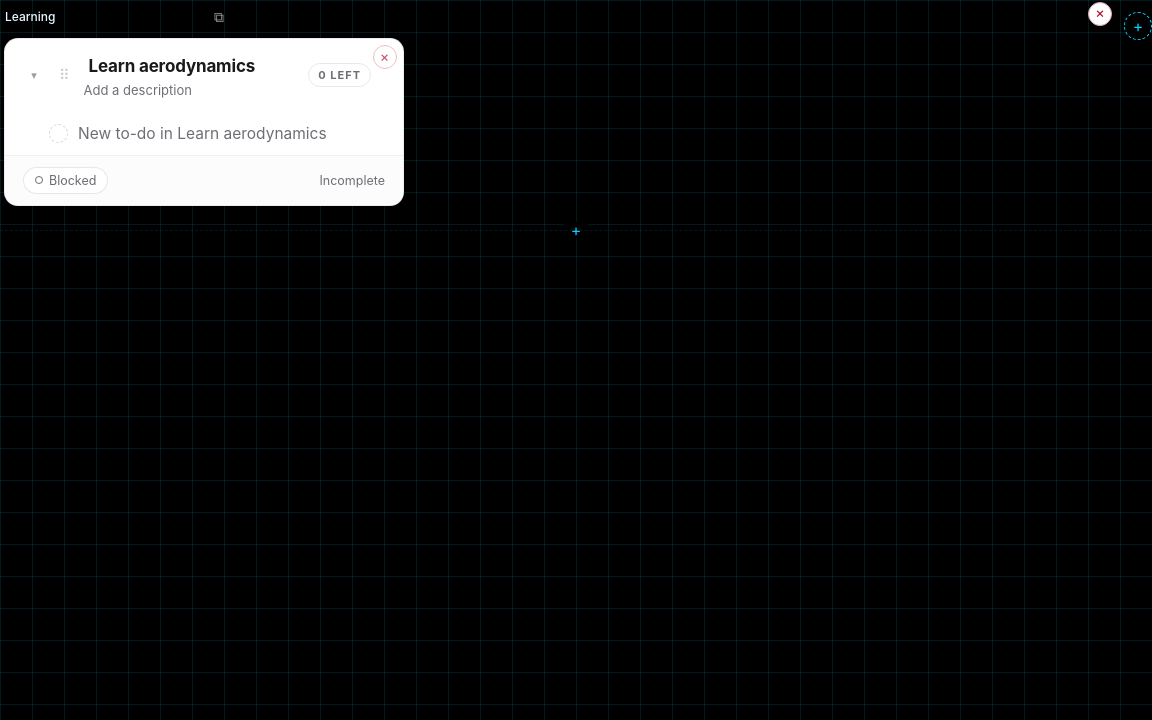
Test: LayerRow › asks before deleting a layer that holds work, and says where it goes
Click the button named "delete layer" at {"x": 1100, "y": 14}, box [1088,2,1112,26]
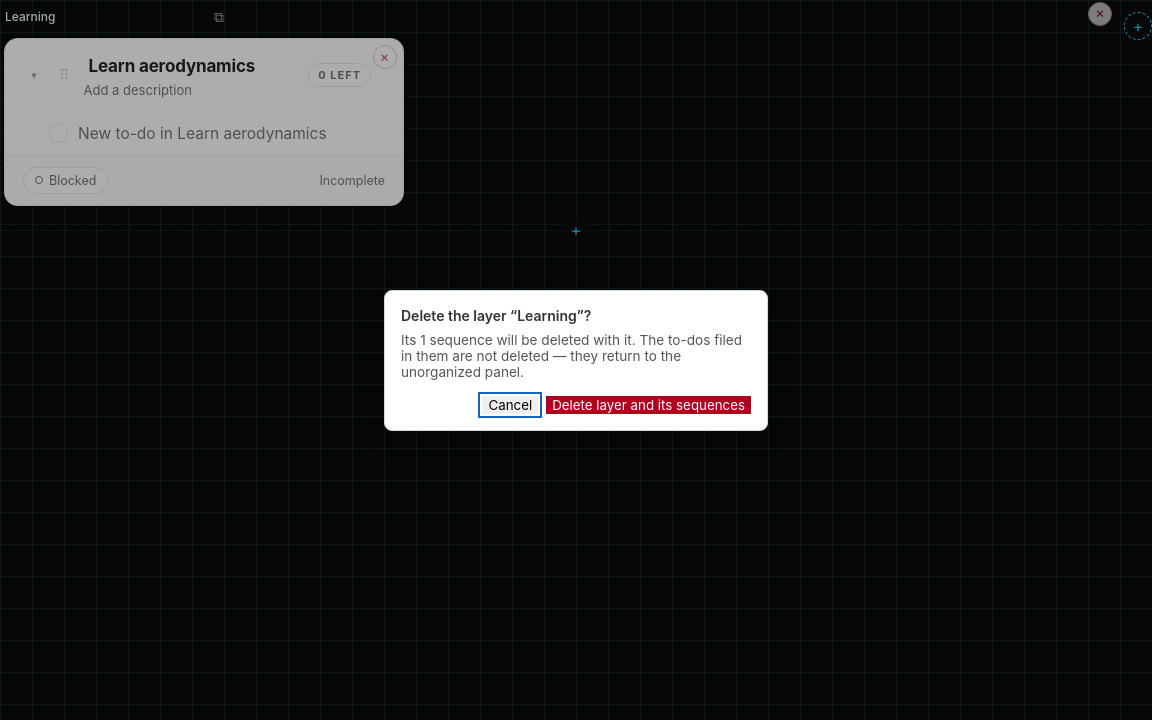
expect the dialog shows "not deleted": met, box [401,332,742,380]
expect the dialog shows "unorganized panel": met, box [401,332,742,380]
